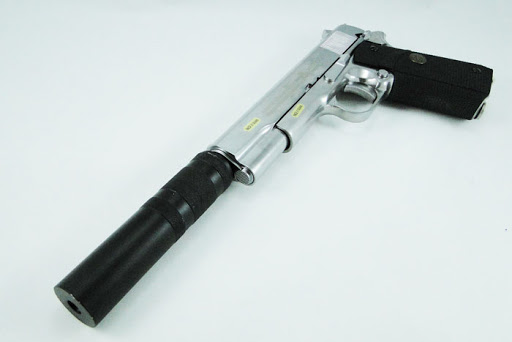gun: (14, 20, 512, 335)
